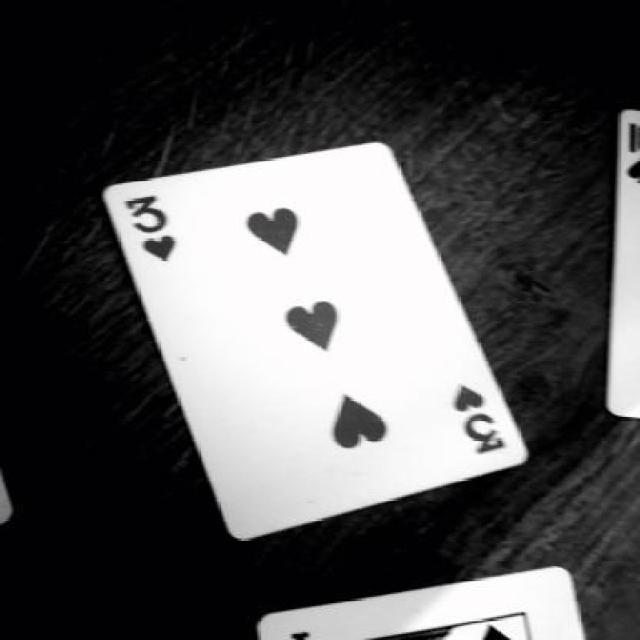3H: (442, 371, 508, 463), (121, 186, 196, 266)
